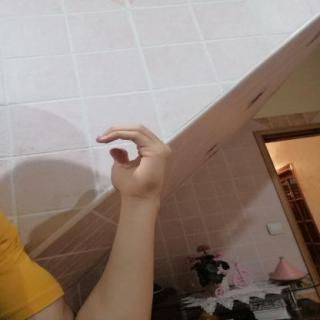JEEM: (86, 116, 182, 211)
